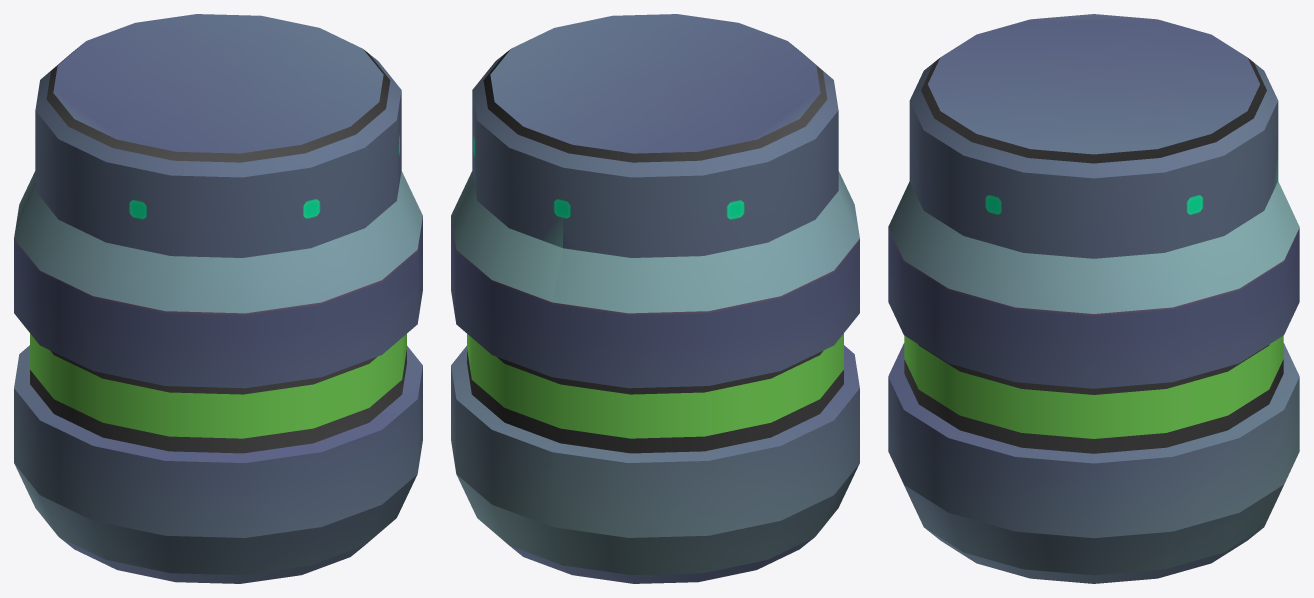
The model's file is NanoApplicator.glb.
3 views of the same model, side by side, from view 1: azimuth 30°, elevation 25°; view 2: azimuth 150°, elevation 25°; view 3: azimuth 270°, elevation 25° (orthographic).
Parts seen in each view (by area): view 1: NanoApplicator; view 2: NanoApplicator; view 3: NanoApplicator.
Boxes of the visible parts, <box> form: NanoApplicator: <box>14,14,422,583</box>; NanoApplicator: <box>451,14,859,583</box>; NanoApplicator: <box>888,14,1299,583</box>.
Bounding box in the file's own units: 1.41 × 1.62 × 1.41.
1 material, 1 textured.
